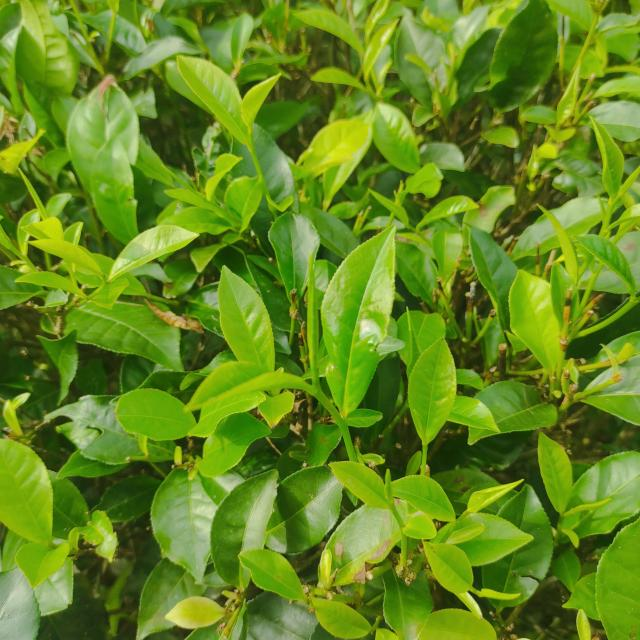unopened_leaf: (292, 232, 332, 390), (14, 163, 55, 220), (563, 493, 615, 519), (476, 580, 526, 605), (612, 166, 640, 202), (381, 463, 397, 511)
